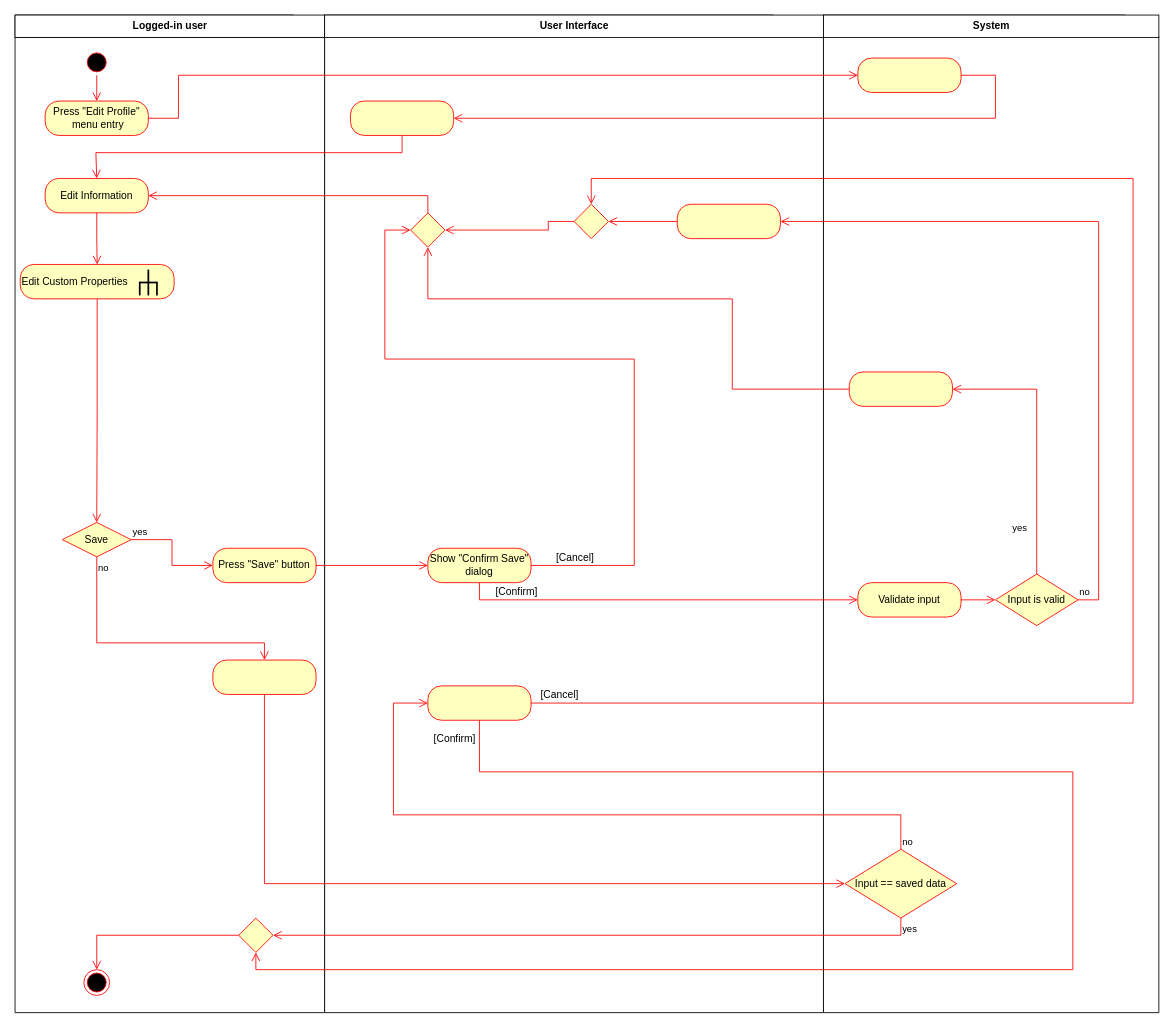
Image size: 1174x1028. Some labels were removed from this diagram. Here are the shapes that lost their labels. From the top down, the centre of each, then its label:
point 909,74: Get user data
point 402,117: Show user data
point 728,221: Mark invalid inputs
point 900,388: Save data
point 264,676: Press "Back/Cancel" button
point 479,702: Show "Confirm Cancel" dialog
